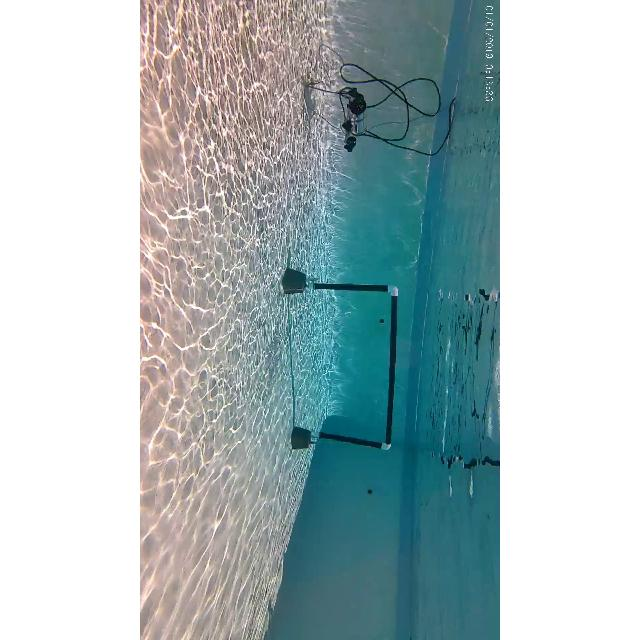prequal gate: (312, 284, 396, 451)
prequal gate leg l: (284, 264, 400, 304)
prequal gate leg r: (286, 421, 394, 457)
